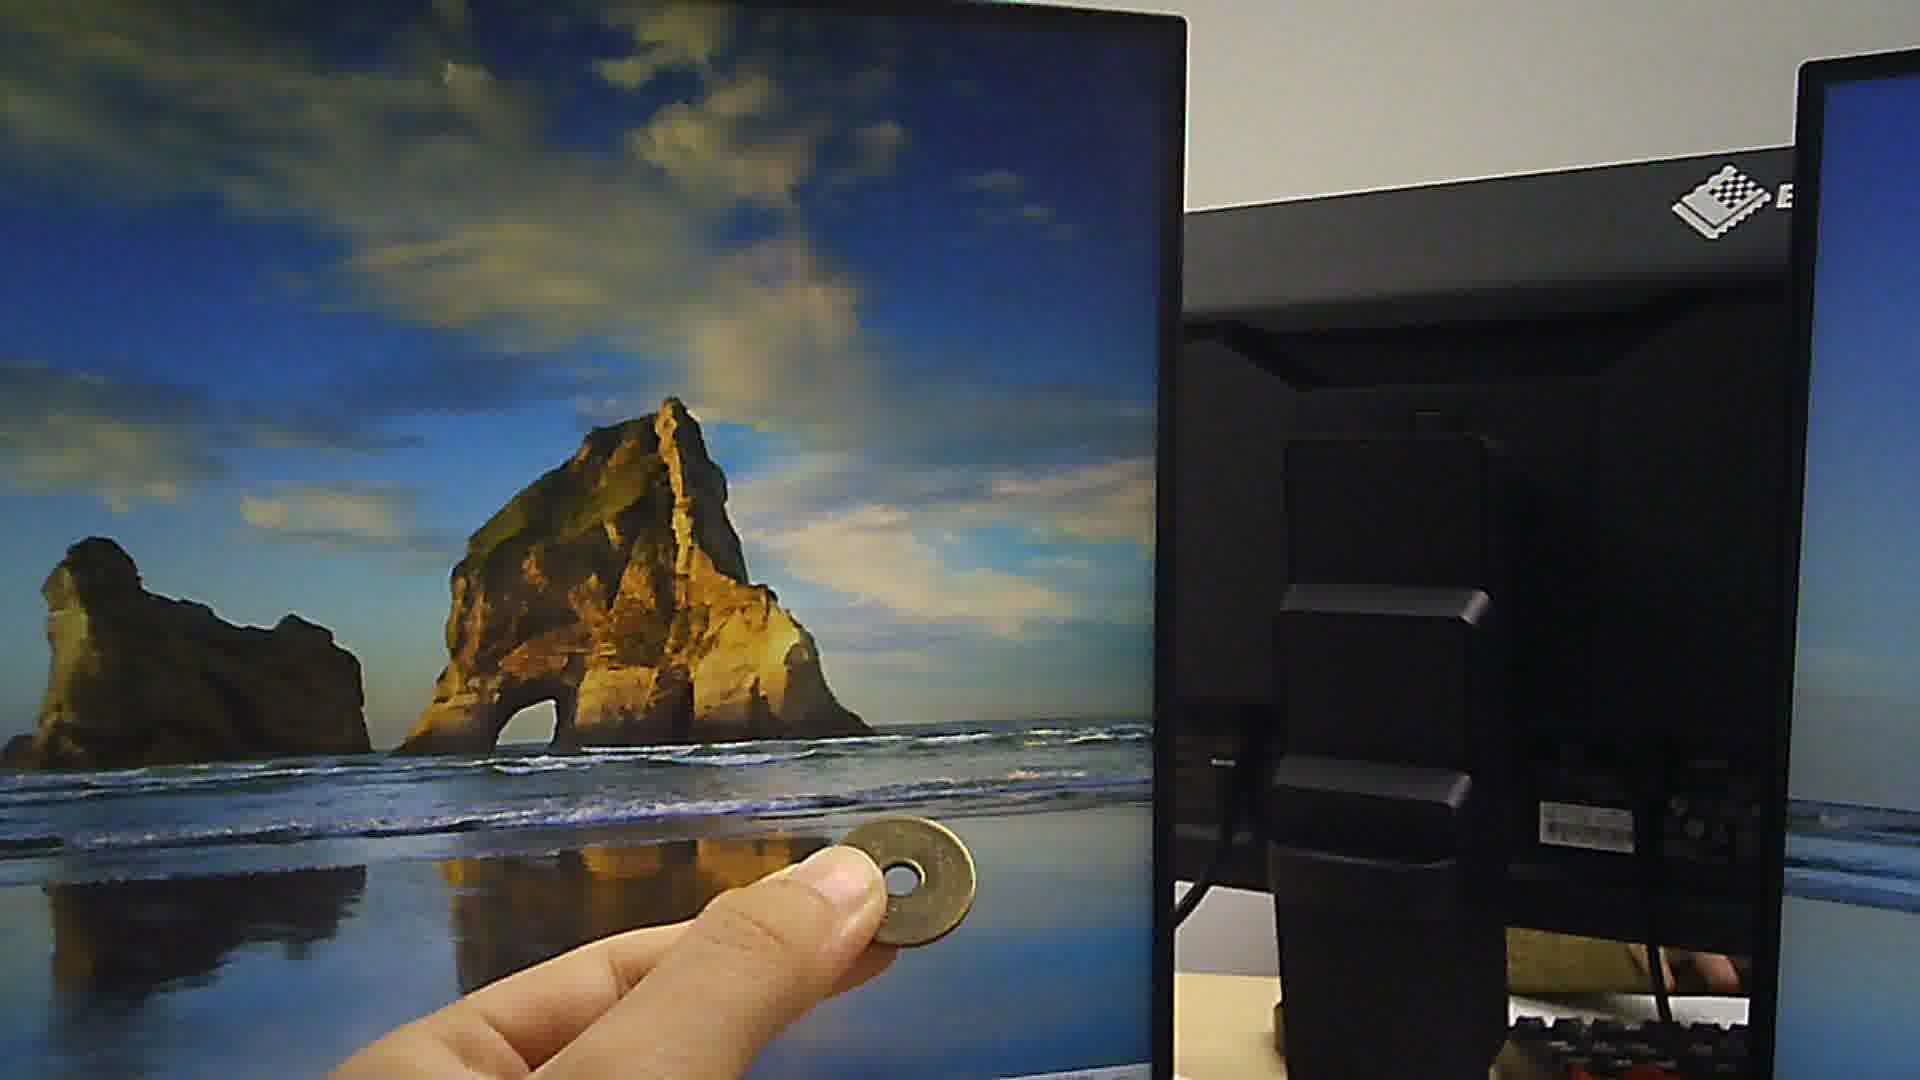5 Yen: (832, 808, 992, 938)
